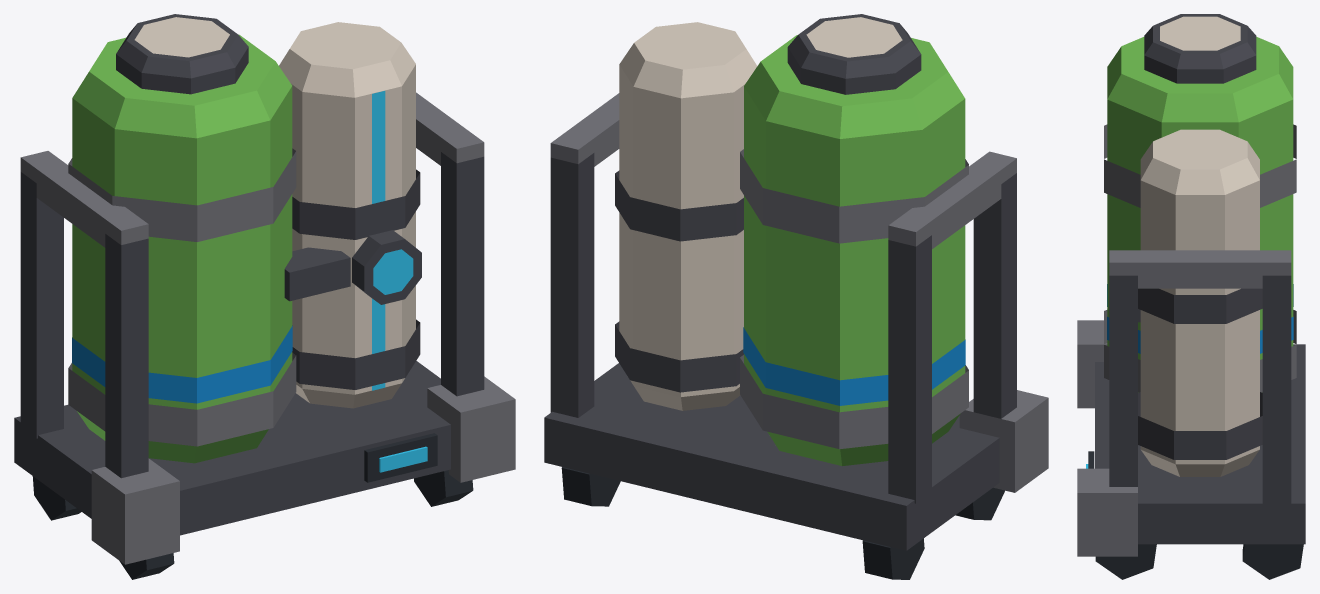
File: water_high.glb
3 views of the same model, side by side, from view 1: azimuth 30°, elevation 25°; view 2: azimuth 150°, elevation 25°; view 3: azimuth 270°, elevation 25° (orthographic). The views are drawn at different scales.
Parts seen in each view (by area): view 1: Support_Frame.002, Main_Vessel.002, Auxiliary_Vessel.002, Main_Strap.004, Main_Strap.005, Fill_Cap.002, Lower_Colour_Band.002, Auxiliary_Strap.005, Auxiliary_Strap.004, Tap_Bridge.002, Cap_Inset.002, Tap_Valve.002 (+7 smaller); view 2: Support_Frame.002, Main_Vessel.002, Auxiliary_Vessel.002, Main_Strap.004, Main_Strap.005, Fill_Cap.002, Lower_Colour_Band.002, Auxiliary_Strap.005, Auxiliary_Strap.004, Cap_Inset.002, Wheel.009, Wheel.011 (+1 smaller); view 3: Support_Frame.002, Auxiliary_Vessel.002, Main_Vessel.002, Fill_Cap.002, Auxiliary_Strap.004, Auxiliary_Strap.005, Main_Strap.005, Cap_Inset.002, Wheel.011, Wheel.010, Main_Strap.004, Lower_Colour_Band.002.
Part boxes in pixels (x1,y1,x2,y2): Support_Frame.002: [14, 92, 515, 564]; Main_Vessel.002: [72, 34, 292, 463]; Auxiliary_Vessel.002: [279, 22, 415, 408]; Main_Strap.004: [68, 353, 296, 446]; Main_Strap.005: [68, 148, 296, 241]; Fill_Cap.002: [116, 14, 248, 94]; Lower_Colour_Band.002: [72, 325, 292, 403]; Auxiliary_Strap.005: [292, 169, 420, 239]; Auxiliary_Strap.004: [292, 319, 420, 389]; Tap_Bridge.002: [284, 247, 350, 301]; Cap_Inset.002: [134, 17, 229, 57]; Tap_Valve.002: [352, 230, 421, 304]; Support_Frame.002: [544, 93, 1048, 550]; Main_Vessel.002: [744, 35, 965, 466]; Auxiliary_Vessel.002: [619, 22, 757, 410]; Main_Strap.004: [740, 355, 968, 449]; Main_Strap.005: [740, 149, 968, 243]; Fill_Cap.002: [787, 14, 921, 94]; Lower_Colour_Band.002: [743, 327, 965, 405]; Auxiliary_Strap.005: [615, 170, 743, 241]; Auxiliary_Strap.004: [615, 321, 743, 392]; Cap_Inset.002: [806, 17, 902, 57]; Wheel.009: [862, 538, 924, 579]; Wheel.011: [561, 467, 620, 506]; Support_Frame.002: [1077, 250, 1305, 556]; Auxiliary_Vessel.002: [1140, 129, 1259, 476]; Main_Vessel.002: [1107, 36, 1293, 392]; Fill_Cap.002: [1144, 14, 1256, 83]; Auxiliary_Strap.004: [1138, 392, 1262, 459]; Auxiliary_Strap.005: [1138, 288, 1262, 323]; Main_Strap.005: [1104, 124, 1296, 207]; Cap_Inset.002: [1160, 16, 1240, 50]; Wheel.011: [1242, 544, 1303, 579]; Wheel.010: [1095, 544, 1156, 579]; Main_Strap.004: [1104, 310, 1296, 392]; Lower_Colour_Band.002: [1107, 284, 1293, 353].
Bounding box in the file's own units: 1.28 × 1.53 × 0.715.
